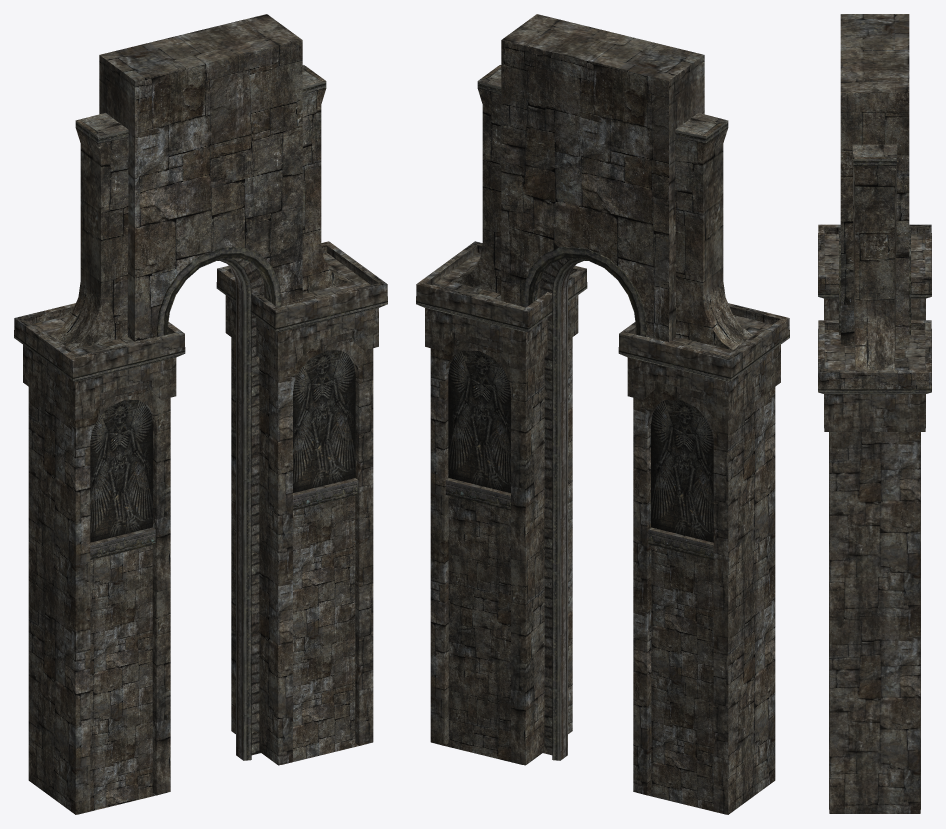
The model's file is Gateway_LOD1.fbx.
The picture shows the model from 3 angles, left to right: view 1: azimuth 30°, elevation 25°; view 2: azimuth 150°, elevation 25°; view 3: azimuth 270°, elevation 25°; orthographic projection. The views are drawn at different scales.
Parts seen in each view (by area): view 1: polySurface123; view 2: polySurface123; view 3: polySurface123.
Part boxes in pixels (left/top/right/bottom): polySurface123: left=14, top=14, right=387, bottom=814; polySurface123: left=416, top=14, right=789, bottom=814; polySurface123: left=818, top=14, right=931, bottom=813.
Bounding box in the file's own units: 14.99 × 32.75 × 4.85.
